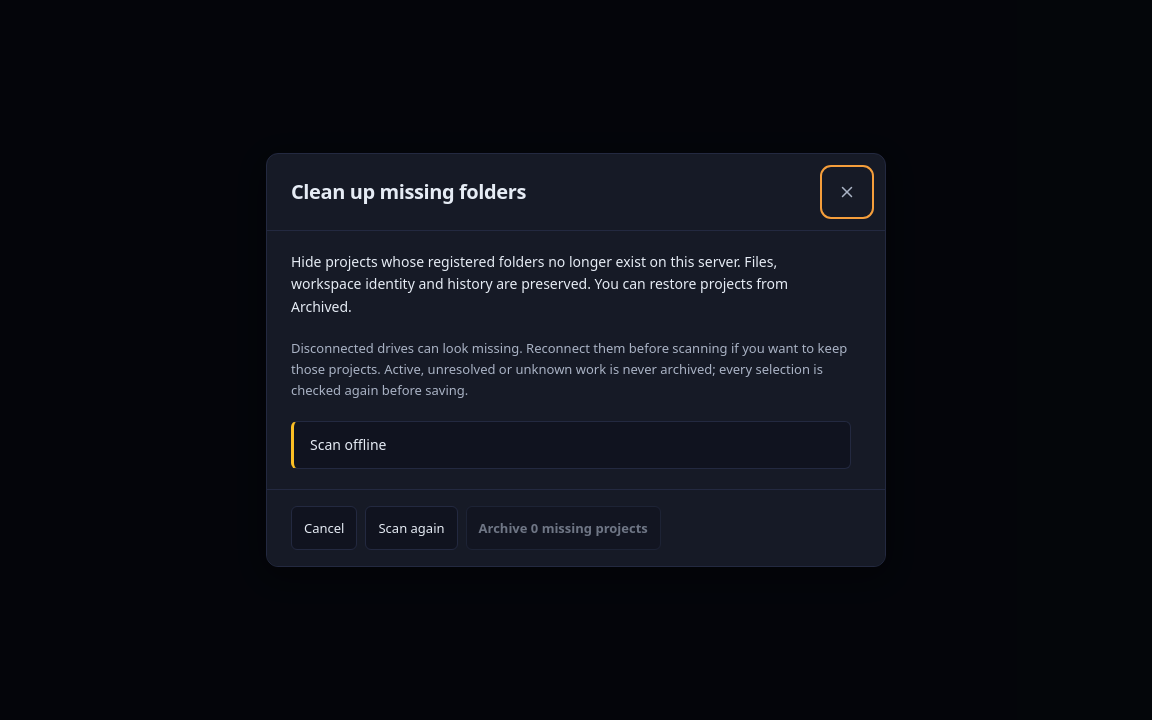
Test: keeps scan errors distinct from empty results and supports recovery
Expected: the message reads "Scan offline", [310, 435, 386, 454]
Expected: the button "Archive 0 missing projects" is disabled, [466, 506, 661, 550]
What coordinates should you click on to do the following:
click the button "Scan again"
I would click on:
 (412, 528)
Its box is [366, 506, 458, 550].
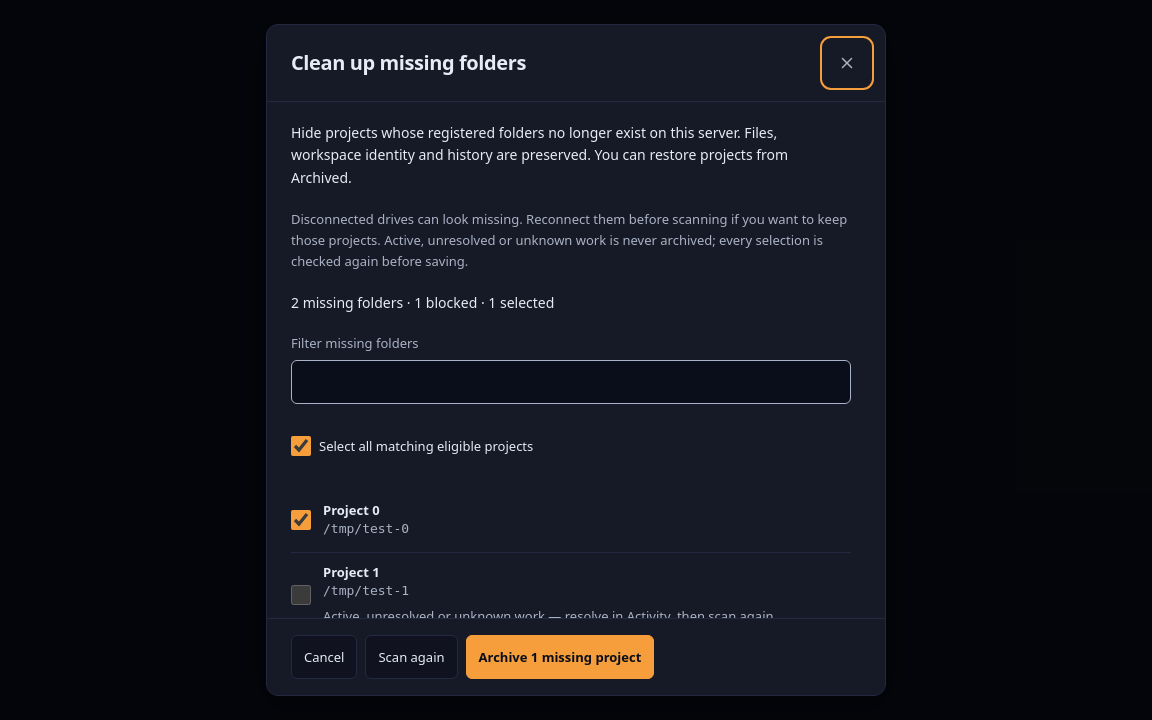
Now the button "Archive 1 missing project" is enabled, box [466, 635, 654, 679]
